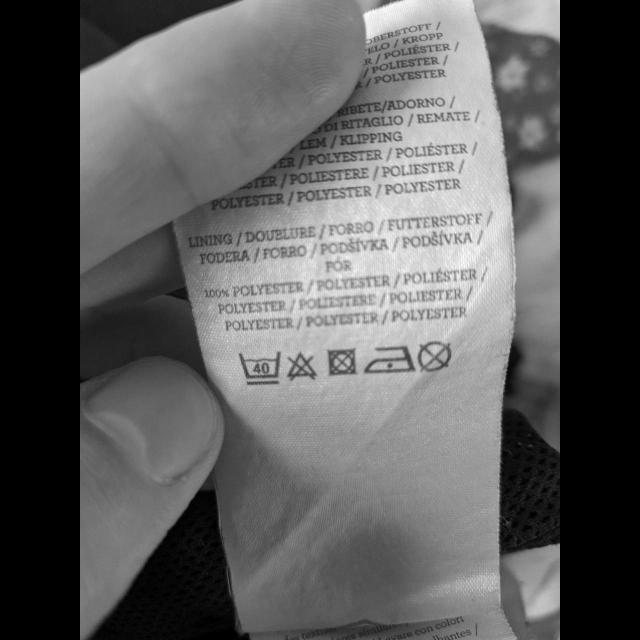40C: (238, 348, 282, 388)
DN_bleach: (286, 350, 318, 382)
DN_dry_clean: (416, 340, 452, 374)
DN_tumble_dry: (325, 346, 359, 379)
iron_low: (362, 344, 418, 376)
